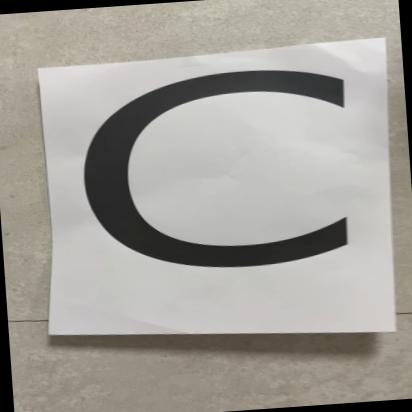seat: (34, 24, 412, 371)
